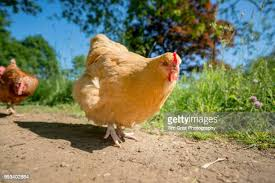buff: (74, 36, 185, 125)
